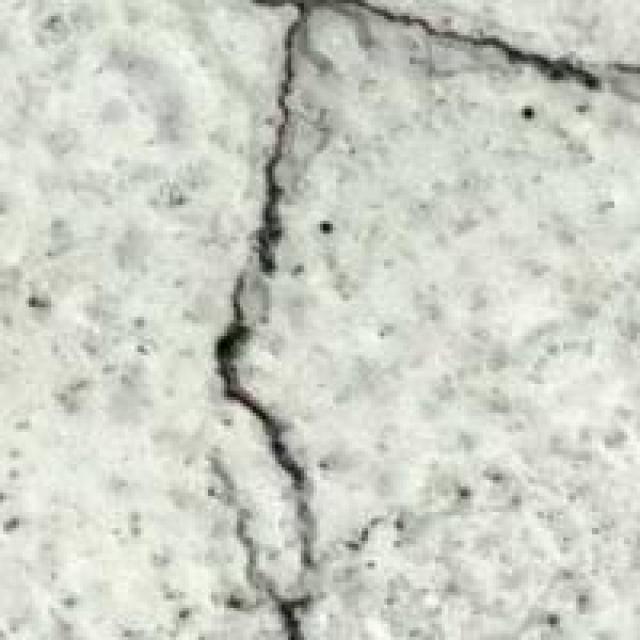Crack: (205, 0, 637, 582)
